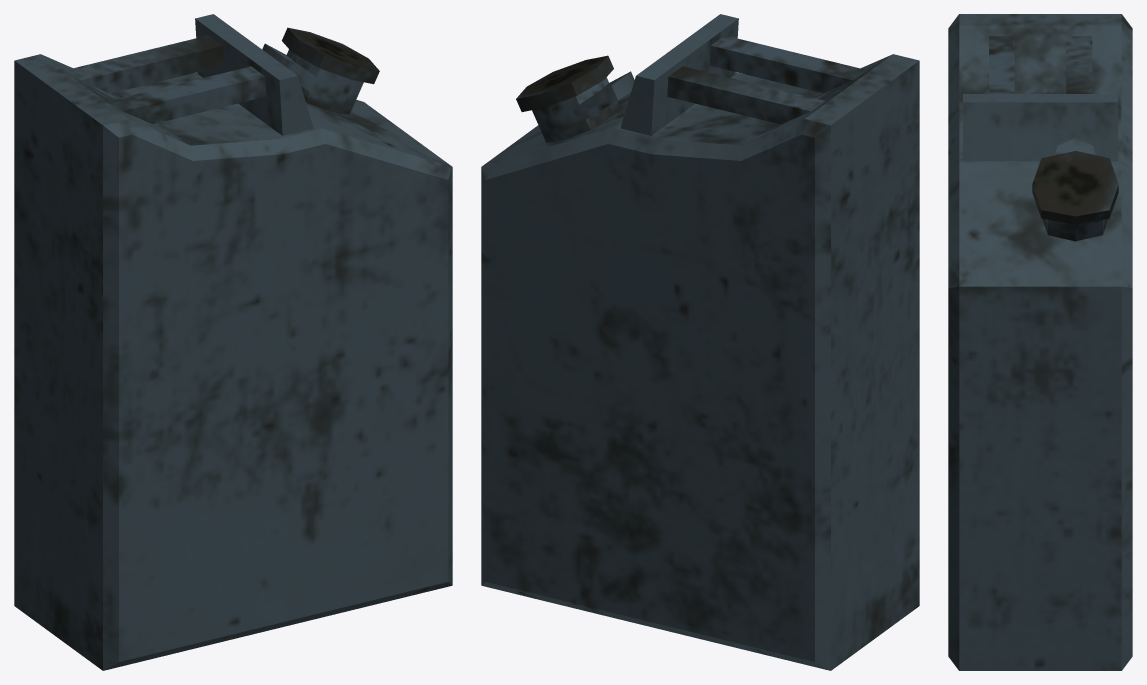
Rendered from JerryCan.fbx.
3 views of the same model, side by side, from view 1: azimuth 30°, elevation 25°; view 2: azimuth 150°, elevation 25°; view 3: azimuth 270°, elevation 25° (orthographic). The views are drawn at different scales.
Parts seen in each view (by area): view 1: JerryCan; view 2: JerryCan; view 3: JerryCan.
Boxes of the visible parts, <box> form: JerryCan: <box>14,14,452,670</box>; JerryCan: <box>481,14,919,670</box>; JerryCan: <box>948,14,1132,670</box>.
Size of the model in its own units: 58.64 by 87.47 by 29.16.
